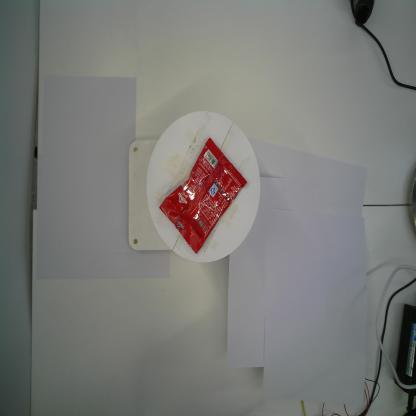Instant Drink: (158, 136, 248, 254)
